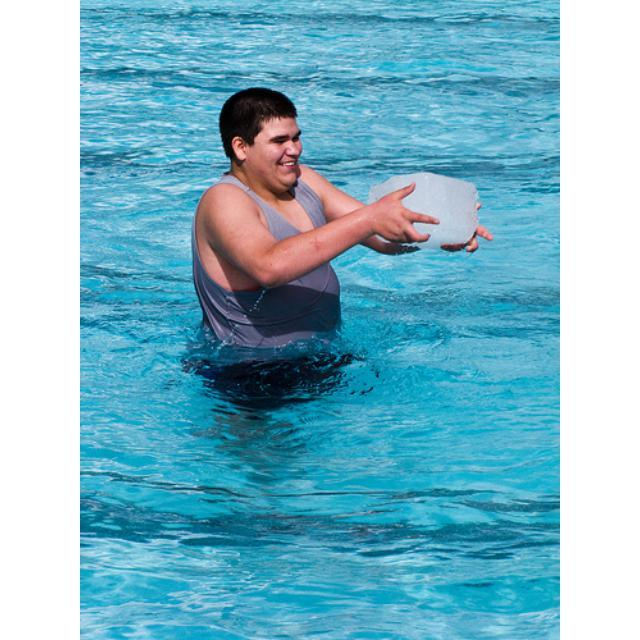human: (192, 85, 490, 379)
